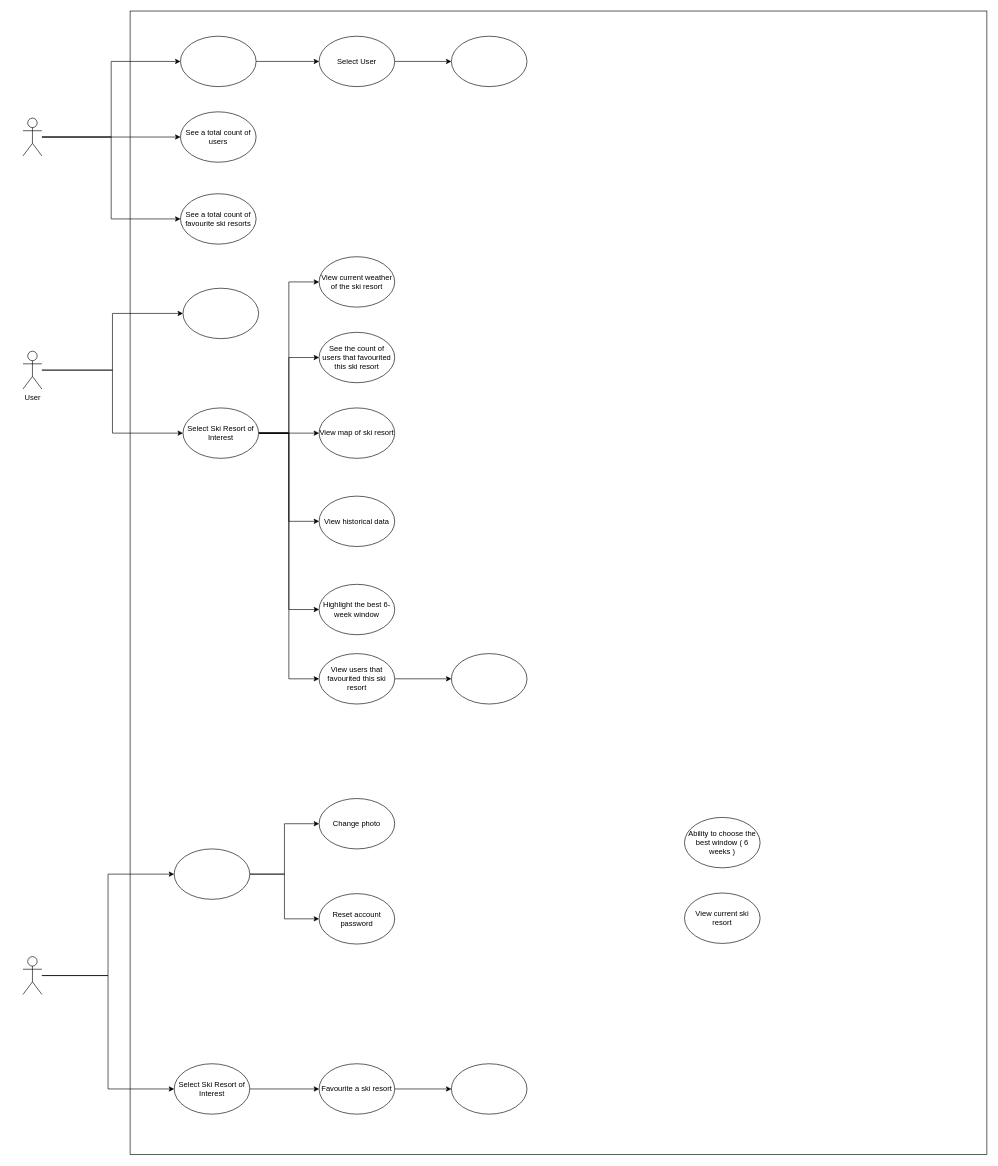
Image size: 998x1166. Some labels were removed from this diagram. Here are the shapes that lost their labels. From the top down, the box of each, then its label:
(180, 36, 256, 87): See a list of users
(451, 36, 527, 87): see User's favourite ski resort
(22, 117, 42, 156): Admin
(182, 288, 259, 339): Register account
(451, 653, 527, 704): View other accounts
(174, 848, 250, 899): Account management
(22, 956, 42, 994): Logged User
(451, 1063, 527, 1114): Receve email/notification everyday at 6 pm
